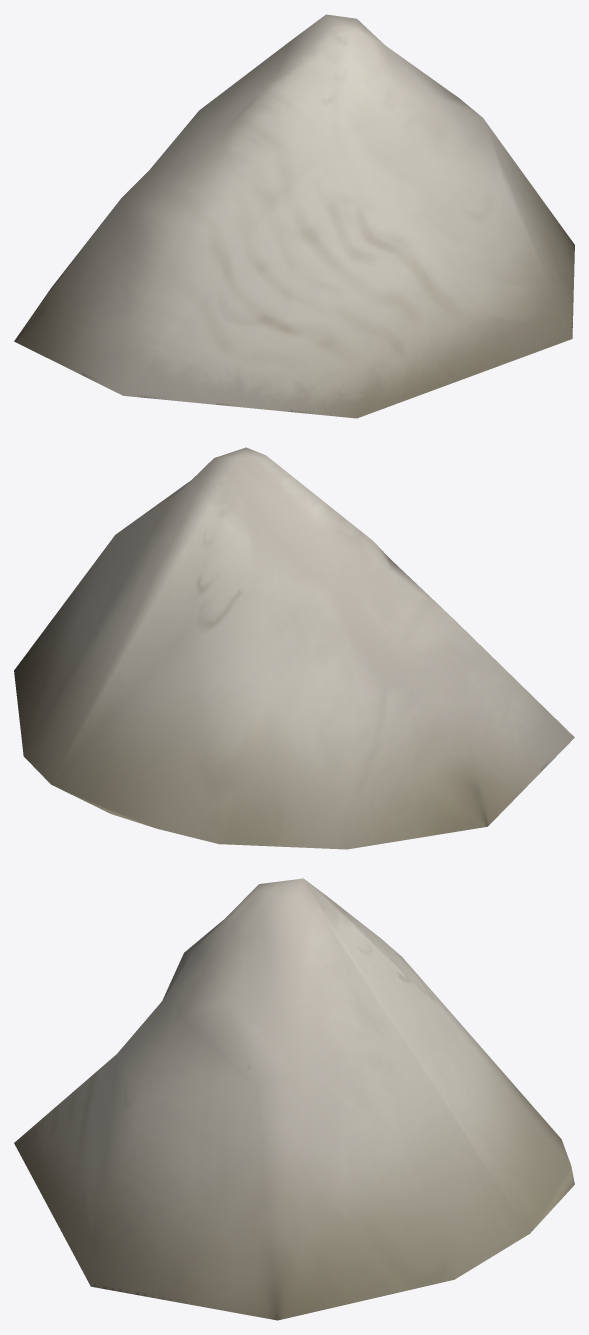
The model's file is flourpyramid.fbx.
3 views of the same model, one above another, from view 1: azimuth 30°, elevation 25°; view 2: azimuth 150°, elevation 25°; view 3: azimuth 270°, elevation 25° (orthographic). The views are drawn at different scales.
Parts seen in each view (by area): view 1: flourpyramid; view 2: flourpyramid; view 3: flourpyramid.
Boxes of the visible parts, x1,y1,x2,y2 form: flourpyramid: (14,14,574,418); flourpyramid: (14,447,574,849); flourpyramid: (14,878,574,1320).
Size of the model in its own units: 28.1 by 15.08 by 23.53.
